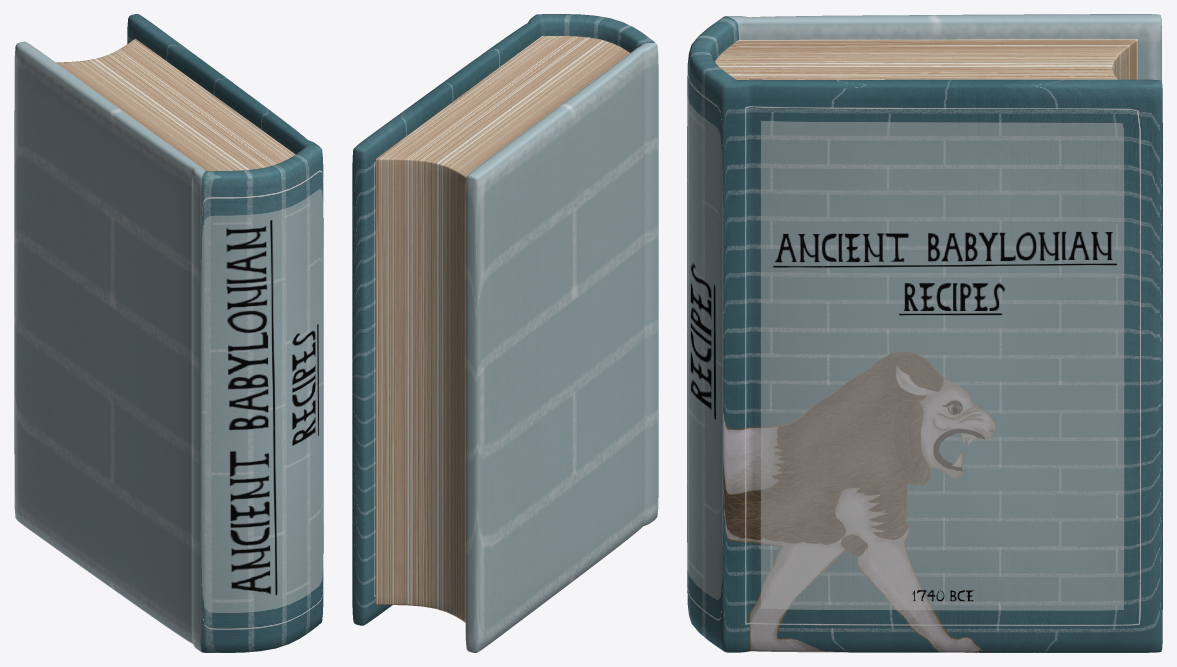
File: book-10.glb
3 renders of one model, left to right at view 1: azimuth 30°, elevation 25°; view 2: azimuth 150°, elevation 25°; view 3: azimuth 270°, elevation 25°, orthographic. The views are drawn at different scales.
Parts seen in each view (by area): view 1: Ancient babylonian recipes, Book Pages.009; view 2: Ancient babylonian recipes, Book Pages.009; view 3: Ancient babylonian recipes, Book Pages.009.
Part boxes in pixels (x1,y1,x2,y2): Ancient babylonian recipes: [14, 14, 323, 652]; Book Pages.009: [56, 38, 295, 170]; Ancient babylonian recipes: [352, 14, 658, 652]; Book Pages.009: [376, 36, 629, 622]; Ancient babylonian recipes: [687, 14, 1162, 652]; Book Pages.009: [715, 39, 1137, 79].
Size of the model in its own units: 0.2944 by 1.05 by 0.793.
2 materials, 2 textured.
